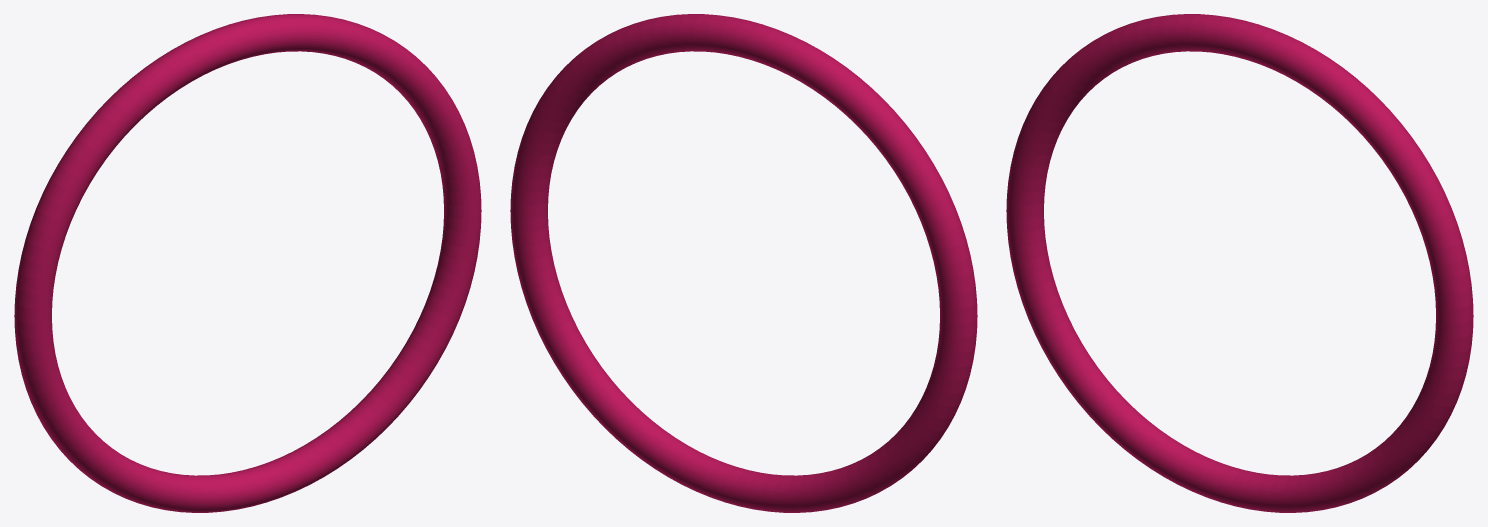
3 renders of one model, left to right at view 1: azimuth 30°, elevation 25°; view 2: azimuth 150°, elevation 25°; view 3: azimuth 330°, elevation 25°, orthographic.
Visible parts, largest first — view 1: world; view 2: world; view 3: world.
Boxes of the visible parts, bbox=[...] form: world: bbox=[14, 14, 481, 512]; world: bbox=[510, 14, 977, 512]; world: bbox=[1006, 14, 1473, 512].
Size of the model in its own units: 32.27 by 32.27 by 2.26.
